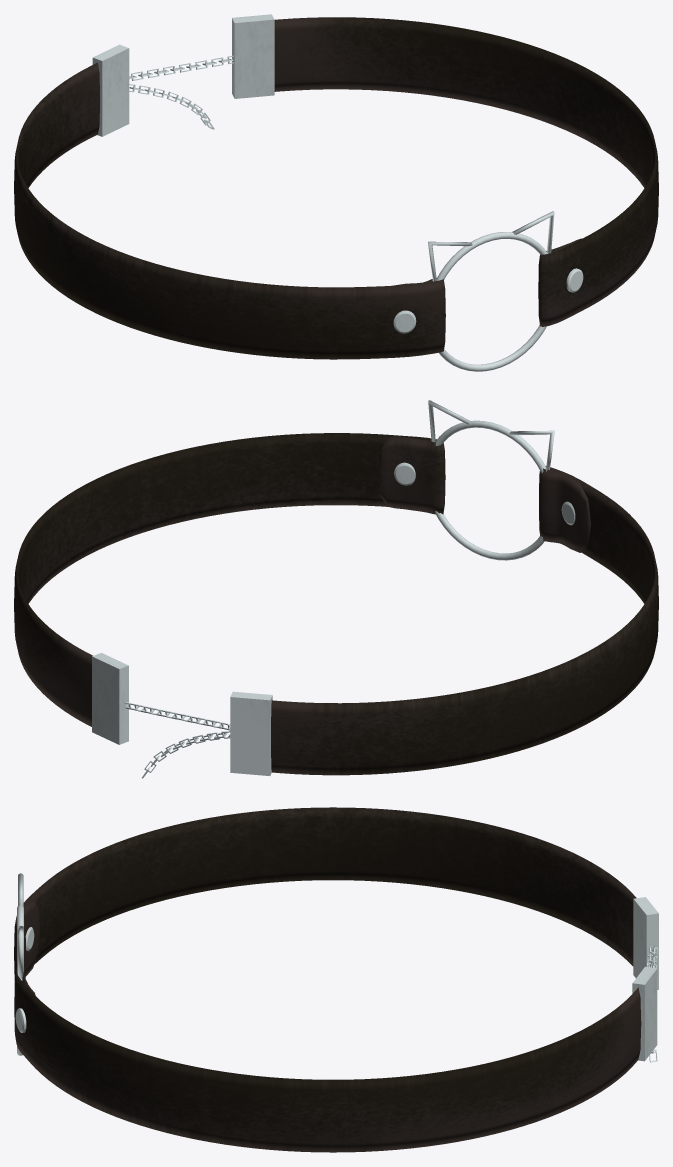
The model's file is NekoChoker_v1.1.fbx.
The picture shows the model from 3 angles, top to bottom: view 1: azimuth 30°, elevation 25°; view 2: azimuth 150°, elevation 25°; view 3: azimuth 270°, elevation 25°; orthographic projection.
Visible parts, largest first — view 1: NekoChoker; view 2: NekoChoker; view 3: NekoChoker.
Boxes of the visible parts, box(x1,y1,x2,y2) form: NekoChoker: box(14, 14, 658, 371); NekoChoker: box(14, 400, 658, 778); NekoChoker: box(14, 807, 658, 1152).
Bounding box in the file's own units: 0.0992 × 0.0243 × 0.0984.
